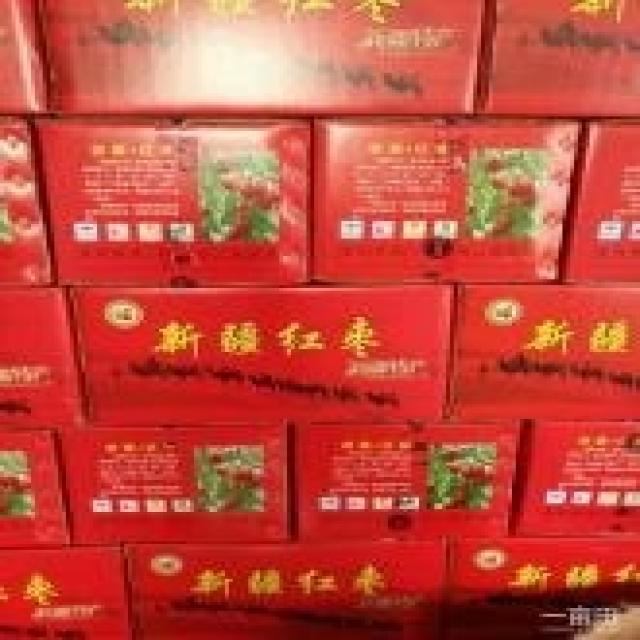box: (58, 288, 462, 425), (39, 0, 485, 116), (31, 116, 314, 288), (314, 119, 590, 285), (120, 541, 450, 640), (54, 422, 291, 547), (291, 422, 528, 544), (450, 285, 640, 422), (473, 0, 640, 119), (450, 541, 640, 640), (516, 422, 640, 541), (559, 119, 640, 285), (0, 288, 89, 431), (0, 547, 132, 640), (0, 113, 54, 288), (0, 431, 74, 550)
